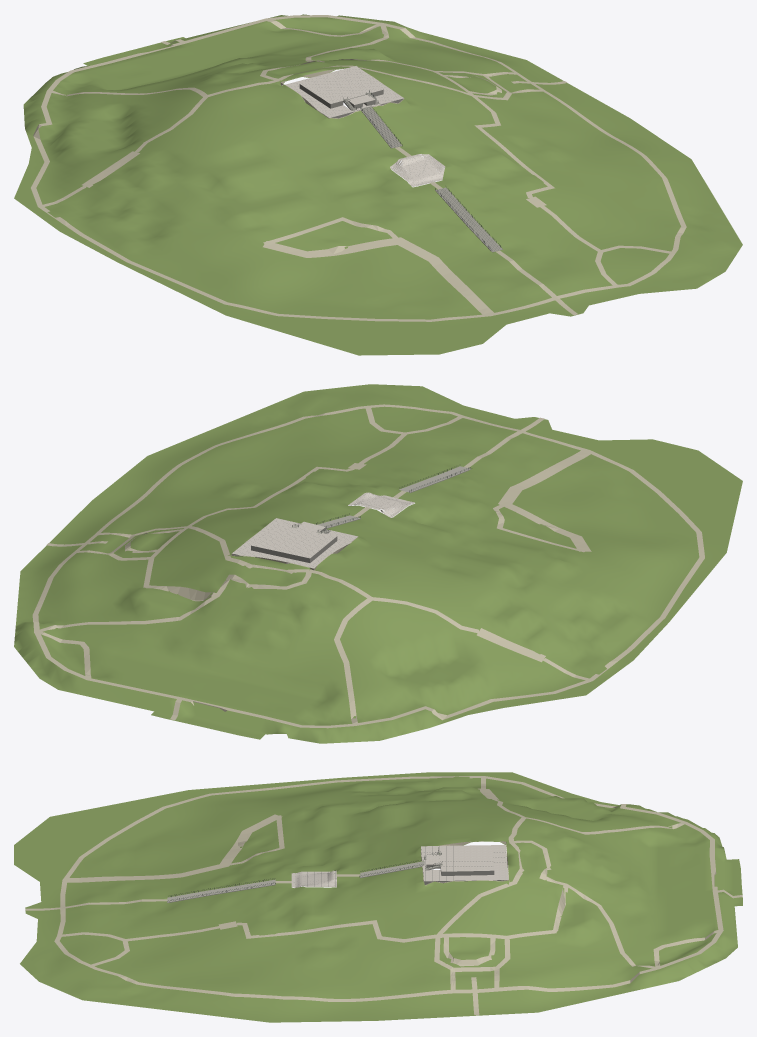
File: terrain.glb
3 renders of one model, top to bottom at view 1: azimuth 30°, elevation 25°; view 2: azimuth 150°, elevation 25°; view 3: azimuth 270°, elevation 25°, orthographic. The views are drawn at different scales.
Parts seen in each view (by area): view 1: Beihai terrain, Beihai paths, Beihai platform_stone, Beihai steps_treads, Beihai steps_risers; view 2: Beihai terrain, Beihai paths, Beihai platform_stone, Beihai steps_treads; view 3: Beihai terrain, Beihai paths, Beihai platform_stone, Beihai steps_treads.
Part boxes in pixels (bbox=[...]): Beihai terrain: bbox=[14, 14, 742, 355]; Beihai paths: bbox=[31, 15, 686, 321]; Beihai platform_stone: bbox=[285, 66, 445, 186]; Beihai steps_treads: bbox=[343, 92, 502, 251]; Beihai steps_risers: bbox=[343, 93, 502, 251]; Beihai terrain: bbox=[14, 384, 742, 743]; Beihai paths: bbox=[32, 404, 704, 728]; Beihai platform_stone: bbox=[232, 492, 414, 568]; Beihai steps_treads: bbox=[292, 466, 470, 533]; Beihai terrain: bbox=[14, 772, 742, 1022]; Beihai paths: bbox=[25, 776, 742, 1015]; Beihai platform_stone: bbox=[291, 845, 508, 887]; Beihai steps_treads: bbox=[167, 853, 442, 902].
Size of the model in its own units: 2.54 by 0.2551 by 3.12.
Materials: 9 (1 with a texture image).
